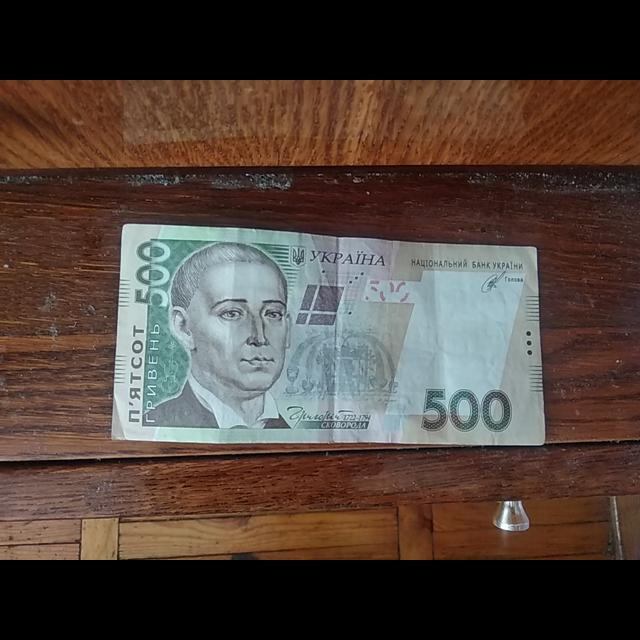500uah: (112, 225, 546, 447)
